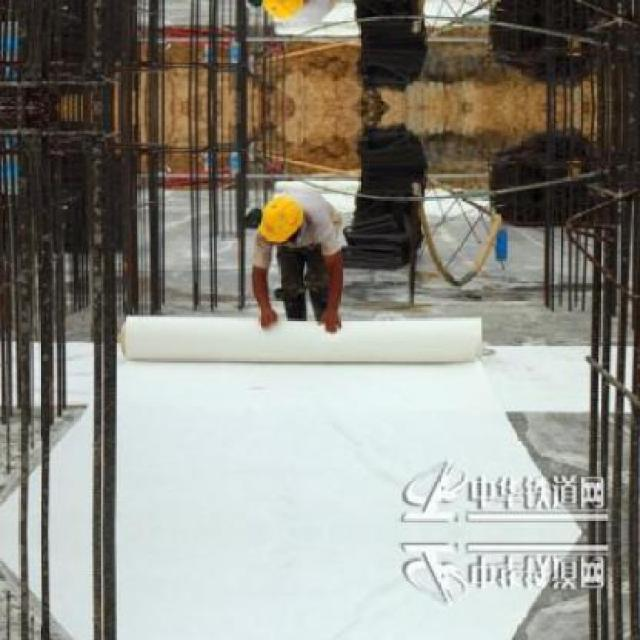helmet: (254, 186, 312, 254), (254, 0, 312, 28)
